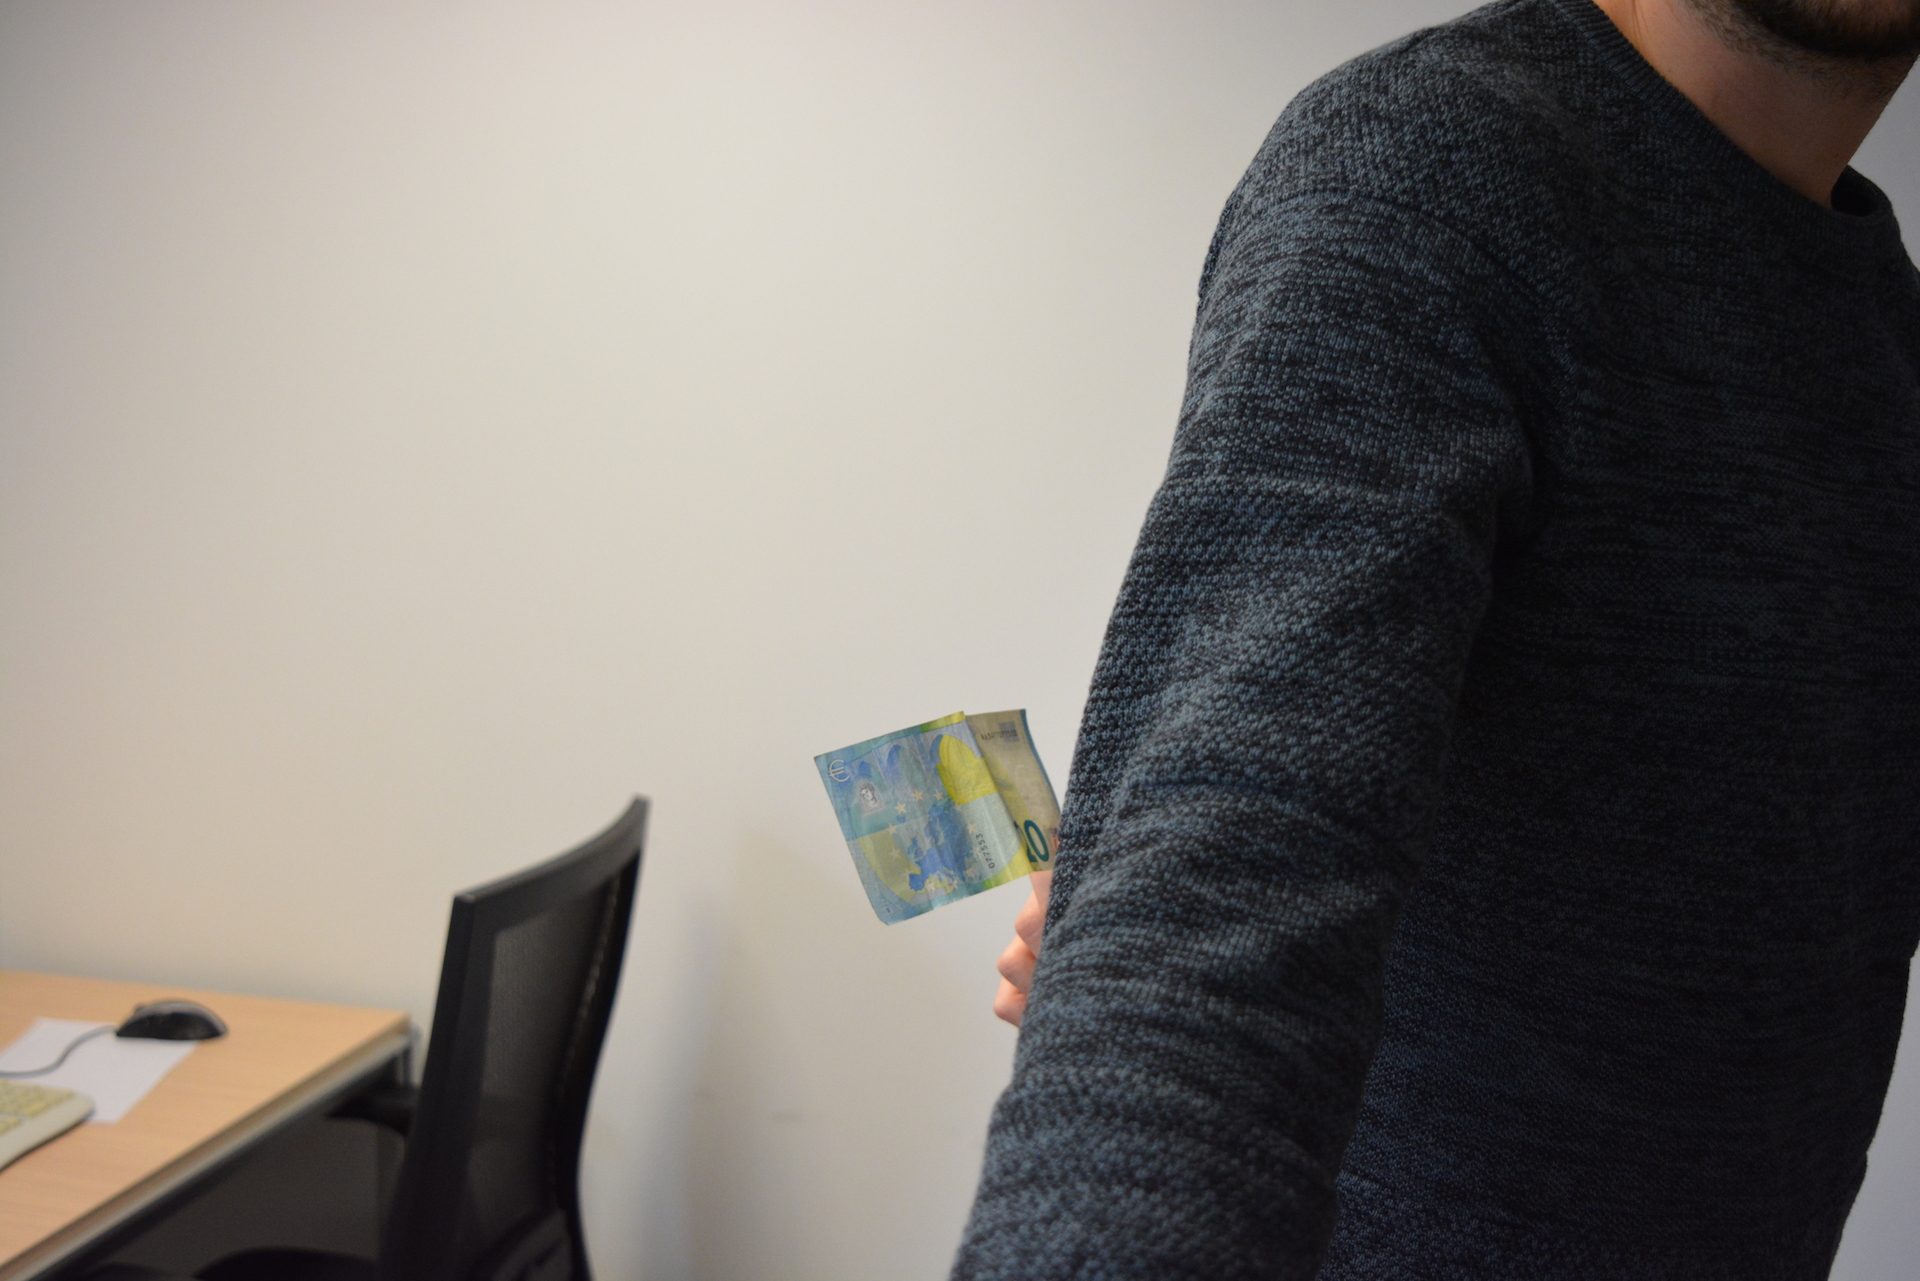billete: (812, 706, 1064, 926)
